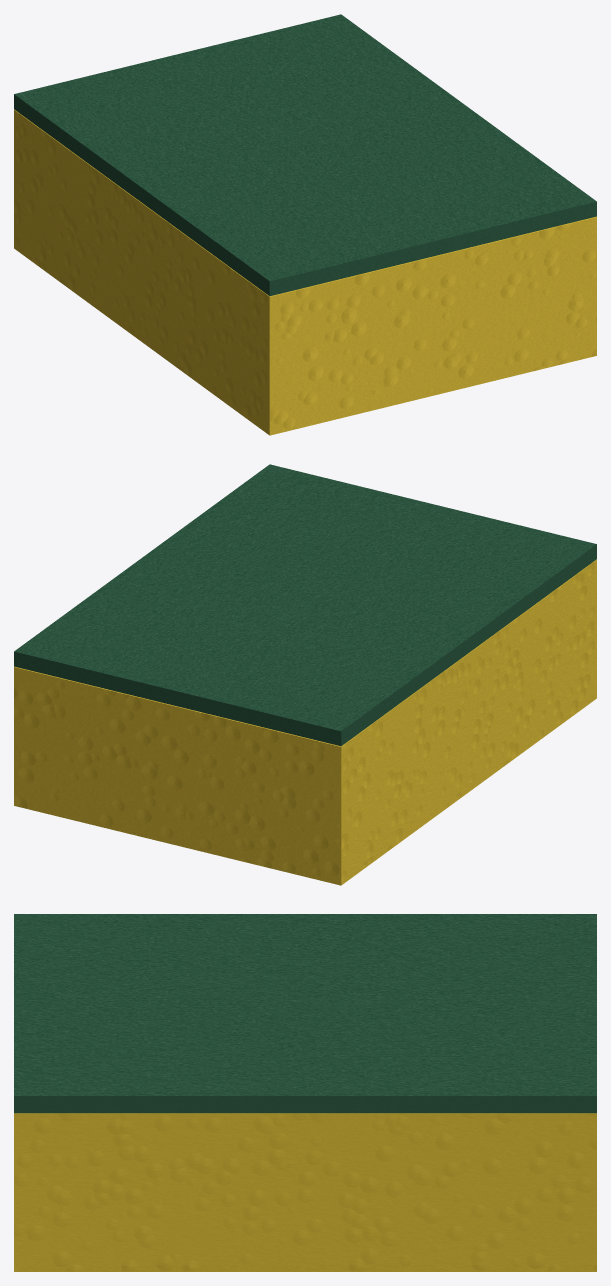
Rendered from sponge.fbx.
3 renders of one model, top to bottom at view 1: azimuth 30°, elevation 25°; view 2: azimuth 150°, elevation 25°; view 3: azimuth 270°, elevation 25°, orthographic. The views are drawn at different scales.
Parts seen in each view (by area): view 1: sponge; view 2: sponge; view 3: sponge.
Boxes of the visible parts, left/top/right/bottom form: sponge: left=14, top=14, right=596, bottom=435; sponge: left=14, top=464, right=596, bottom=885; sponge: left=14, top=914, right=596, bottom=1271.
Bounding box in the file's own units: 278 × 125 × 376.
Materials: 1 (1 with a texture image).
